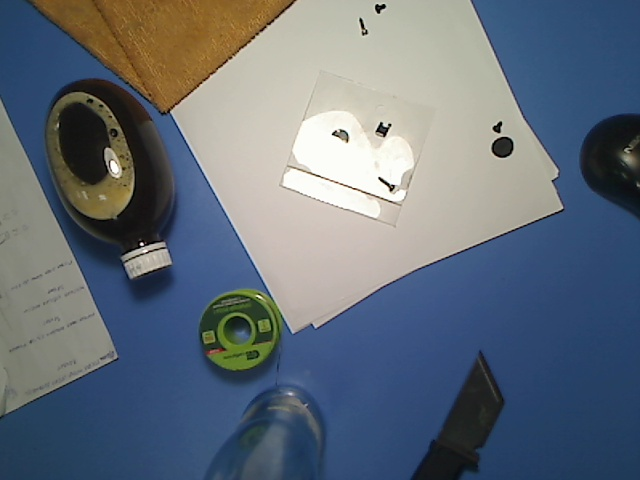plast_bottle: (41, 77, 176, 284)
